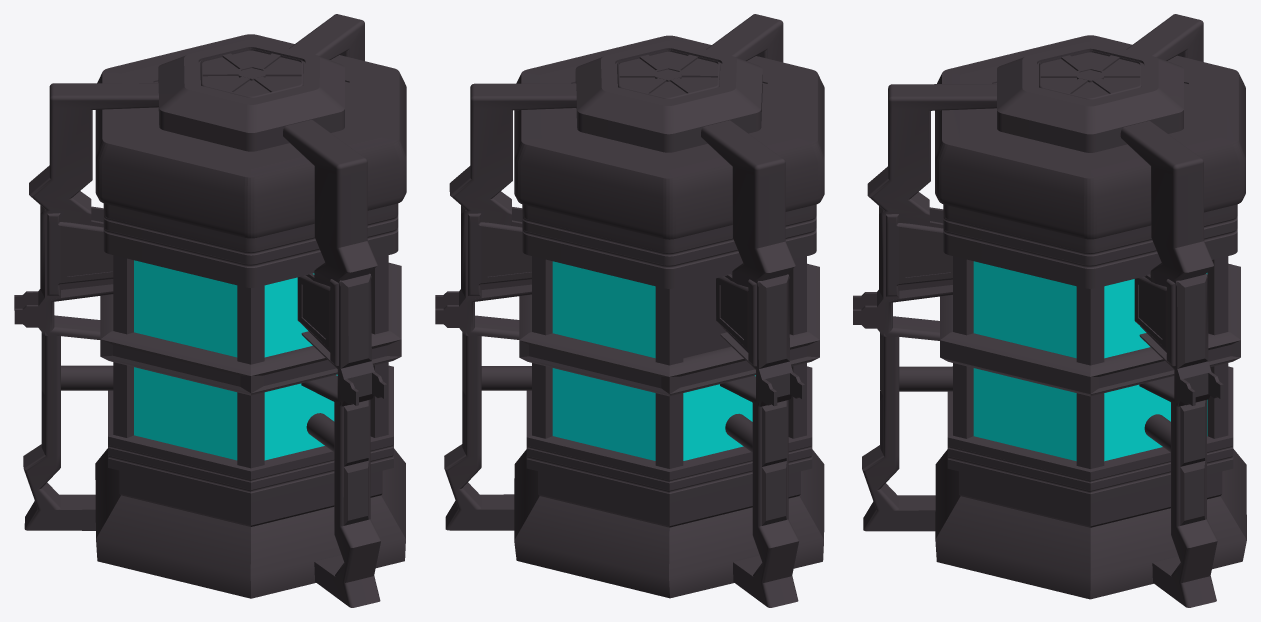
File: sci-fi_power_reactor.glb
3 views of the same model, side by side, from view 1: azimuth 30°, elevation 25°; view 2: azimuth 150°, elevation 25°; view 3: azimuth 270°, elevation 25° (orthographic).
Parts seen in each view (by area): view 1: pCylinder130; view 2: pCylinder130; view 3: pCylinder130.
Boxes of the visible parts, x1,y1,x2,y2 form: pCylinder130: [14, 14, 406, 607]; pCylinder130: [435, 14, 824, 607]; pCylinder130: [853, 14, 1246, 607].
Bounding box in the file's own units: 3.25 × 3.79 × 3.
